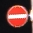No entry: (6, 5, 28, 28)
